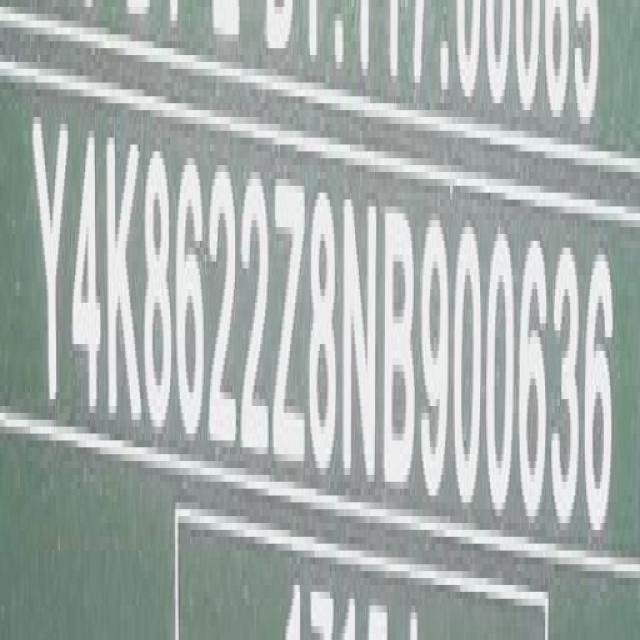0: (451, 192, 482, 518), (484, 206, 516, 521)
2: (207, 146, 240, 462), (240, 159, 272, 467)
3: (550, 231, 581, 542)
4: (70, 104, 104, 435)
6: (517, 220, 550, 530), (176, 140, 208, 453), (586, 238, 618, 545)
8: (308, 176, 339, 478), (146, 128, 175, 440)
9: (419, 194, 451, 508)
B: (383, 181, 417, 505)
K: (106, 132, 144, 438)
N: (342, 183, 378, 492)
Y: (30, 105, 71, 423)
Z: (272, 162, 306, 470)
